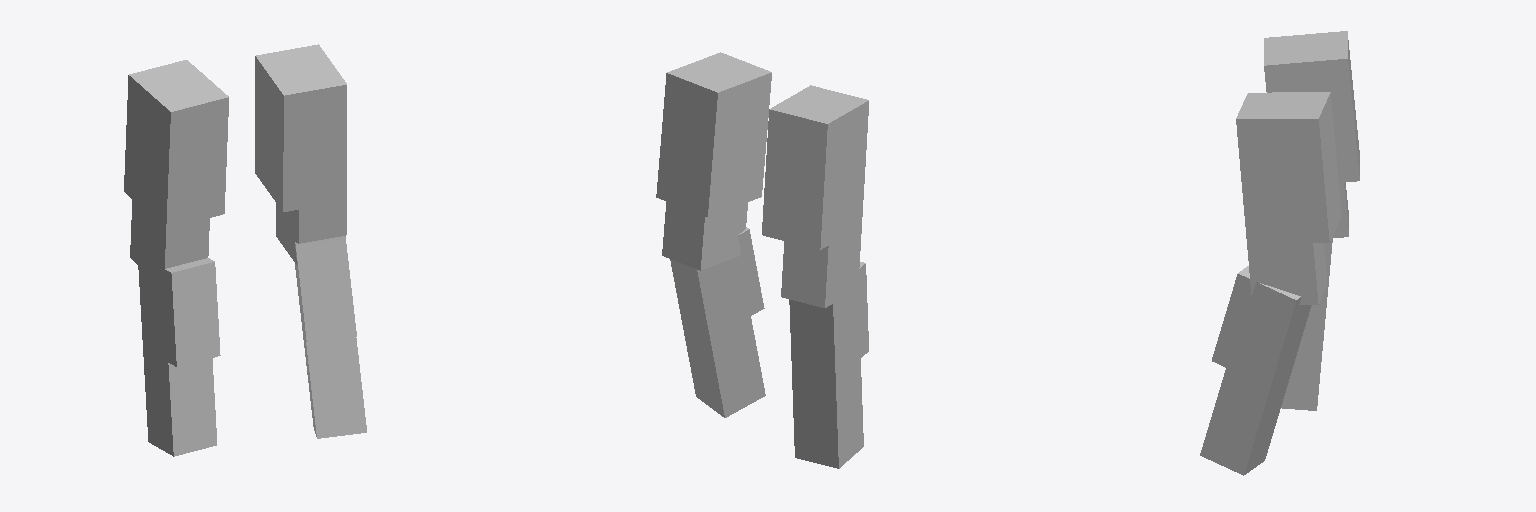
The model's file is Spacehero-legs.obj.
The picture shows the model from 3 angles: view 1: azimuth 30°, elevation 25°; view 2: azimuth 150°, elevation 25°; view 3: azimuth 270°, elevation 25°; orthographic projection.
Parts seen in each view (by area): view 1: Left_Thigh-local, Right_Thigh-local, Left_Leg-local, Right_Leg-local; view 2: Right_Thigh-local, Left_Thigh-local, Left_Leg-local, Right_Leg-local; view 3: Right_Thigh-local, Right_Leg-local, Left_Thigh-local, Left_Leg-local.
Boxes of the visible parts, box(x1,y1,x2,y2) form: Left_Thigh-local: box(124, 60, 228, 287); Right_Thigh-local: box(255, 44, 346, 264); Left_Leg-local: box(138, 258, 220, 456); Right_Leg-local: box(295, 236, 366, 438); Right_Thigh-local: box(656, 52, 771, 270); Left_Thigh-local: box(762, 85, 868, 307); Left_Leg-local: box(789, 262, 868, 468); Right_Leg-local: box(670, 227, 765, 417); Right_Thigh-local: box(1236, 92, 1341, 304); Right_Leg-local: box(1200, 266, 1311, 475); Left_Thigh-local: box(1264, 31, 1359, 237); Left_Leg-local: box(1281, 238, 1332, 410).
Size of the model in its own units: 0.1281 by 0.2355 by 0.0949.